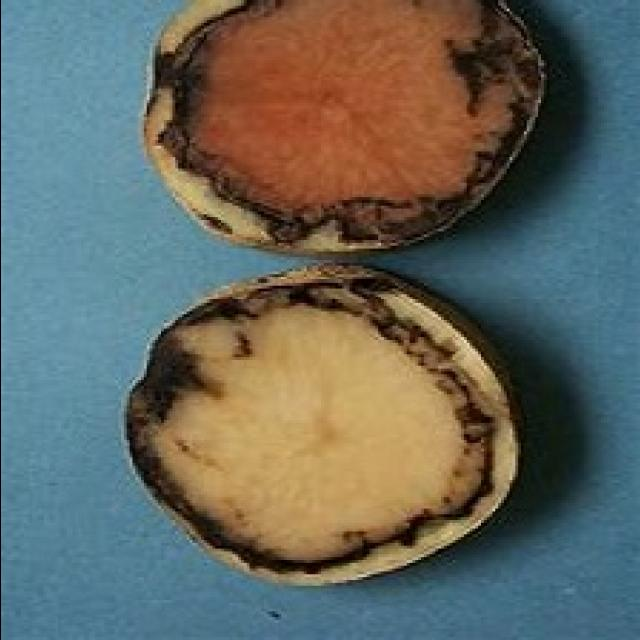pink_rot: (110, 262, 548, 598), (108, 0, 557, 252)
